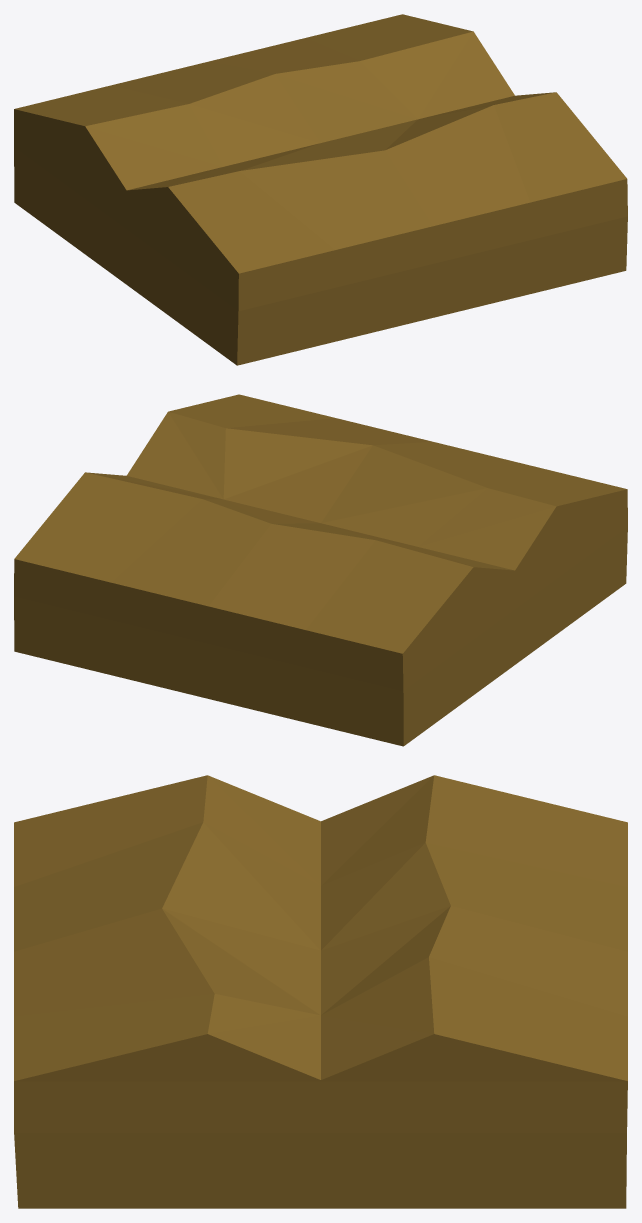
File: groove_bed3.fbx
3 views of the same model, one above another, from view 1: azimuth 30°, elevation 25°; view 2: azimuth 150°, elevation 25°; view 3: azimuth 270°, elevation 25° (orthographic). The views are drawn at different scales.
Parts seen in each view (by area): view 1: Куб.013; view 2: Куб.013; view 3: Куб.013.
Boxes of the visible parts, x1,y1,x2,y2 form: Куб.013: (14,14,627,365); Куб.013: (14,394,627,746); Куб.013: (14,775,627,1208).
Size of the model in its own units: 70 by 21.96 by 70.
